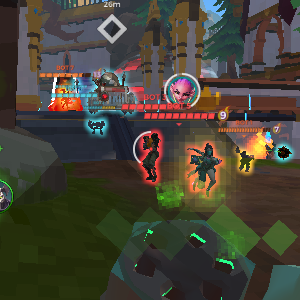model: (191, 137, 219, 202), (141, 127, 162, 187), (56, 78, 77, 110), (237, 143, 254, 180)
